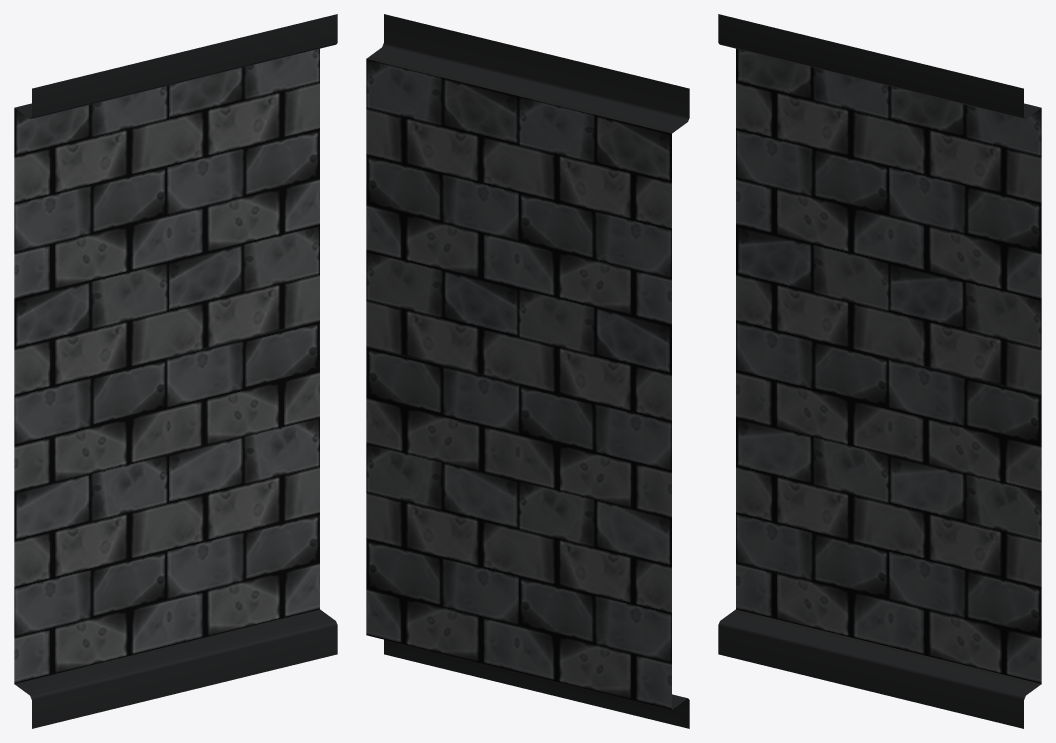
Rendered from M_Wall_Big.fbx.
The picture shows the model from 3 angles, left to right: view 1: azimuth 30°, elevation 25°; view 2: azimuth 150°, elevation 25°; view 3: azimuth 330°, elevation 25°; orthographic projection.
Visible parts, largest first — view 1: Wall_Big; view 2: Wall_Big; view 3: Wall_Big.
Part boxes in pixels (left/top/right/bottom): Wall_Big: left=14, top=14, right=337, bottom=728; Wall_Big: left=366, top=14, right=689, bottom=728; Wall_Big: left=718, top=14, right=1041, bottom=728.
Bounding box in the file's own units: 200 × 400 × 20.
